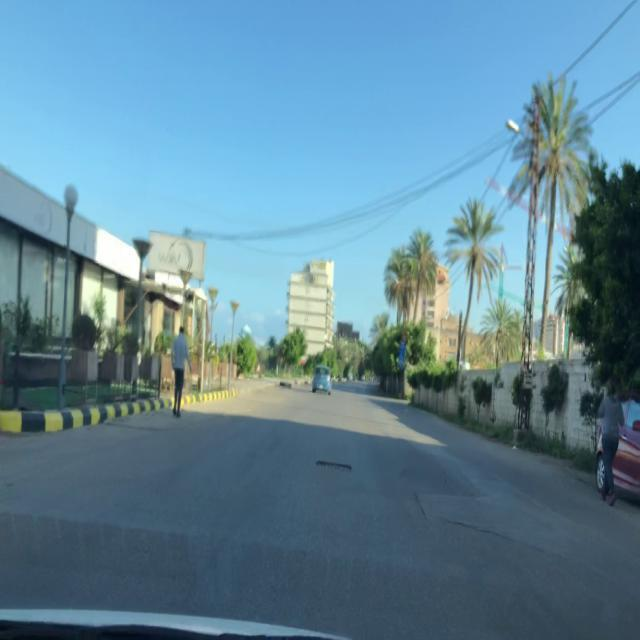pothole: (313, 459, 354, 473)
